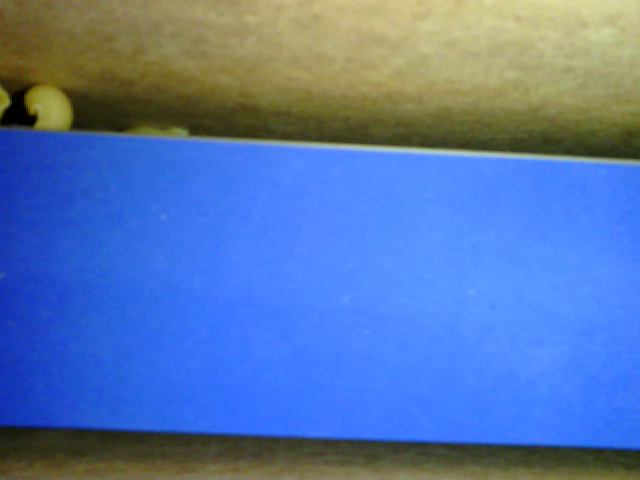shell: (29, 82, 73, 136)
